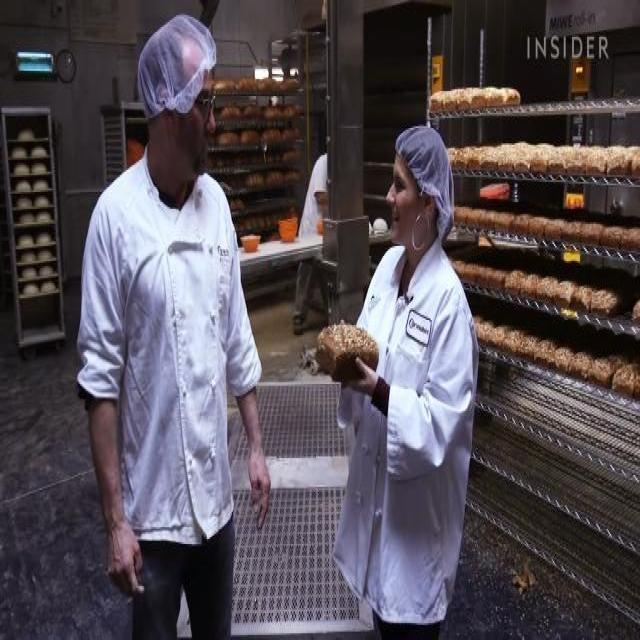bare_hand: (95, 504, 151, 603), (242, 448, 282, 531), (344, 345, 388, 413)
